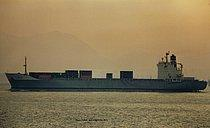Ship: (5, 53, 210, 95)
